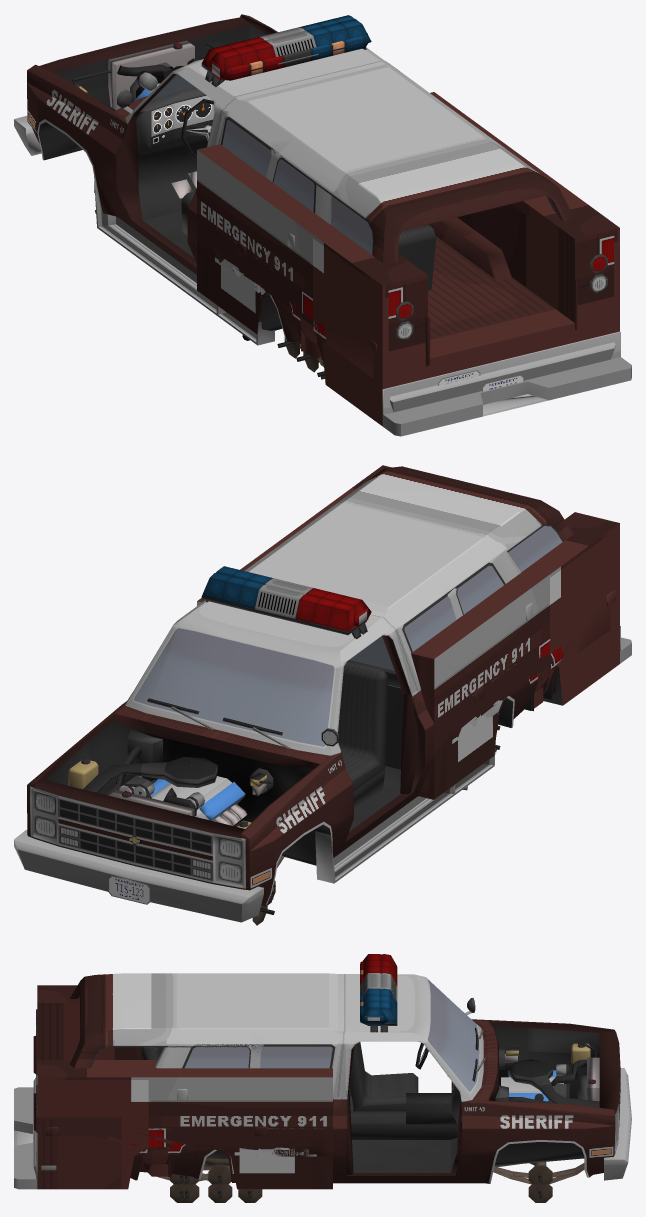
The model's file is Vehicles_ch_trucks_80.fbx.
3 views of the same model, one above another, from view 1: azimuth 30°, elevation 25°; view 2: azimuth 150°, elevation 25°; view 3: azimuth 270°, elevation 25° (orthographic). The views are drawn at different scales.
Parts seen in each view (by area): view 1: bedutility, bodysub, roofsubhard, bumperutilityrear, bed_cap_blazer, bumperrear, bedlong, sidestepsub, lightbarpd, roofblazerhard, lightbarmodern, bedshort (+6 smaller); view 2: bodysub, bedutility, roofsubhard, windshield, bumperfront, seatfront, bodyc10sb, lightbaramber, bed_cap_blazer, sidestepsub, roofblazerhard, bedlong (+7 smaller); view 3: bodysub, bedutility, roofsubhard, bed_cap_blazer, bodyc10sb, windshield, roofblazerhard, bodyblazer, seatfront, bedshort, bumperutilityrear, bumperfront (+7 smaller).
Boxes of the visible parts, <box> form: bedutility: <box>197,92,619,426</box>; bodysub: <box>27,14,453,378</box>; roofsubhard: <box>272,102,573,263</box>; bumperutilityrear: <box>382,331,631,436</box>; bed_cap_blazer: <box>218,60,443,224</box>; bumperrear: <box>390,342,615,412</box>; bedlong: <box>210,225,511,371</box>; sidestepsub: <box>94,176,274,345</box>; lightbarpd: <box>207,18,371,86</box>; roofblazerhard: <box>189,48,393,129</box>; lightbarmodern: <box>210,33,367,84</box>; bedshort: <box>215,217,477,346</box>; bodysub: <box>27,537,610,904</box>; bedutility: <box>197,465,619,799</box>; roofsubhard: <box>280,466,573,614</box>; windshield: <box>134,628,334,746</box>; bumperfront: <box>14,830,263,922</box>; seatfront: <box>338,660,387,810</box>; bodyc10sb: <box>134,621,433,851</box>; lightbaramber: <box>201,572,364,639</box>; bed_cap_blazer: <box>245,550,520,690</box>; sidestepsub: <box>315,744,495,883</box>; roofblazerhard: <box>189,601,412,696</box>; bedlong: <box>469,601,602,736</box>; bodysub: <box>130,973,620,1184</box>; bedutility: <box>33,985,332,1189</box>; roofsubhard: <box>70,973,251,1068</box>; bed_cap_blazer: <box>155,974,345,1099</box>; bodyc10sb: <box>201,984,550,1184</box>; windshield: <box>428,980,479,1091</box>; roofblazerhard: <box>339,974,418,1099</box>; bodyblazer: <box>143,1100,584,1183</box>; seatfront: <box>350,1042,418,1111</box>; bedshort: <box>133,1128,331,1176</box>; bumperutilityrear: <box>14,1074,37,1189</box>; bumperfront: <box>604,1068,631,1180</box>.
Size of the model in its own units: 205 by 198 by 576.
